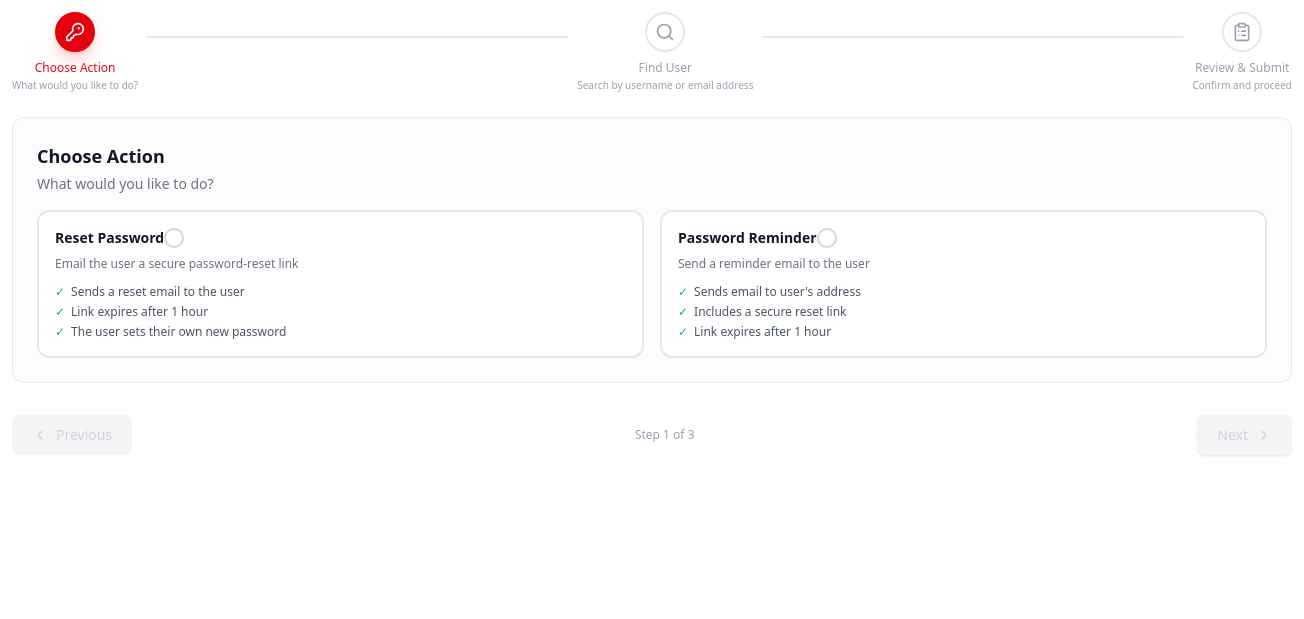
Test: PasswordForm Component › Step 3 — Password Reminder Flow › shows the reset-email info banner for the reminder flow
This screenshot has width=1304, height=619.
Click the text "Password Reminder" at (747, 238), box [678,228,817,248]
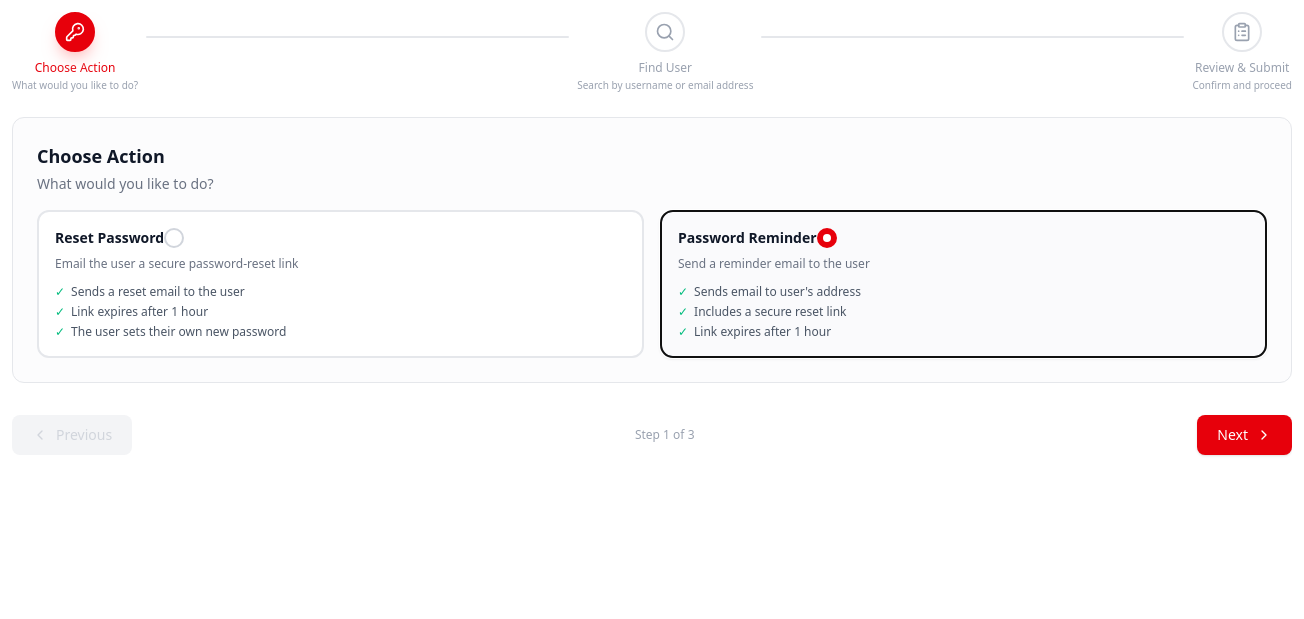
Click the button "Next" at (1245, 435), box [1197,415,1292,455]
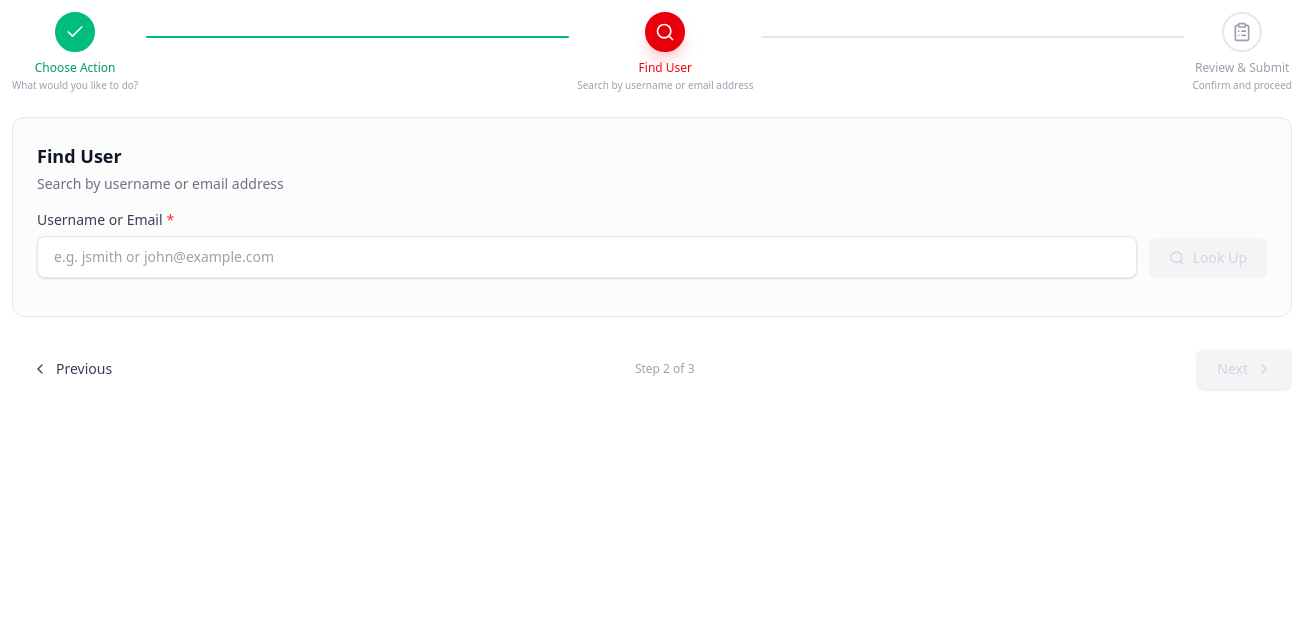
Type "carol" into the field with placeholder "e.g. jsmith or john@example.com" at (587, 257), box [37,236,1137,278]
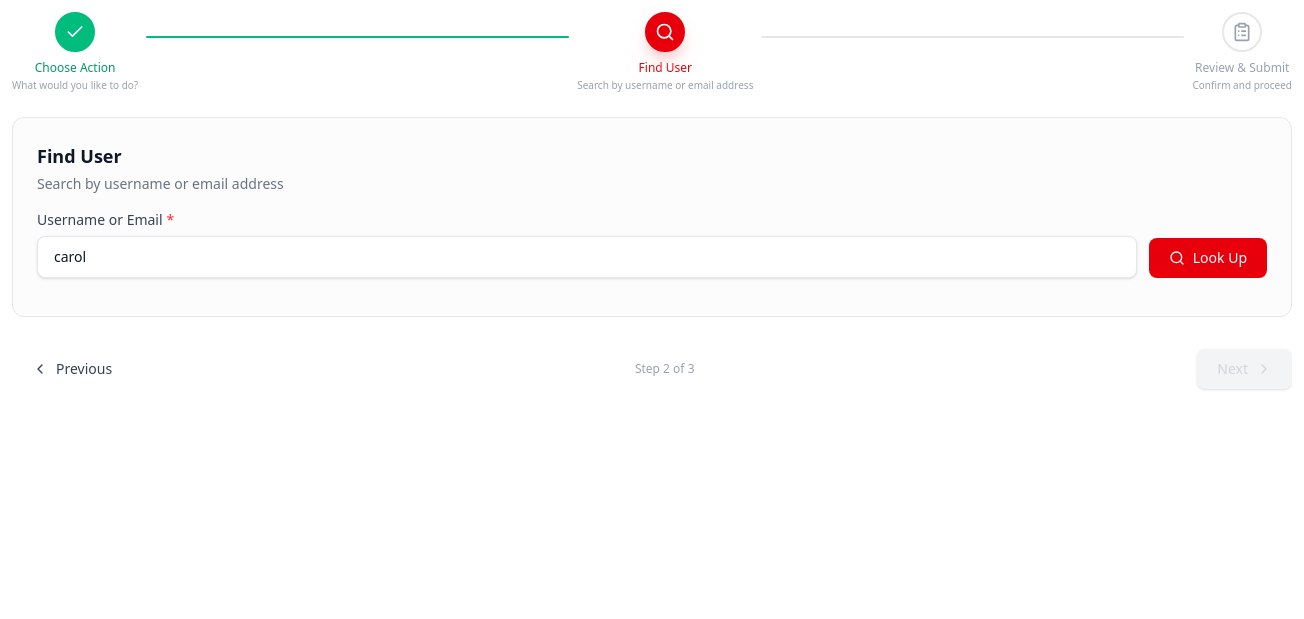
Click the button "Look Up" at (1208, 258), box [1149,238,1267,278]
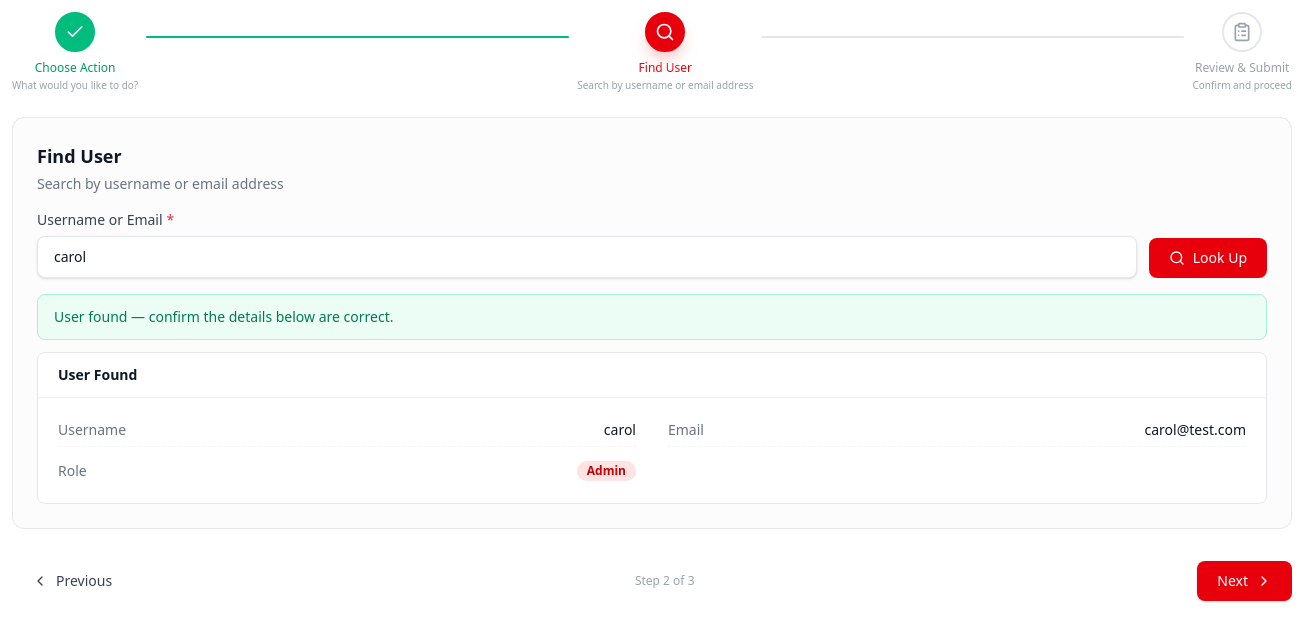
Expected: the text "carol" is shown, [604,420,636,440]
Click the button "Next" at (1245, 581), box [1197,561,1292,601]
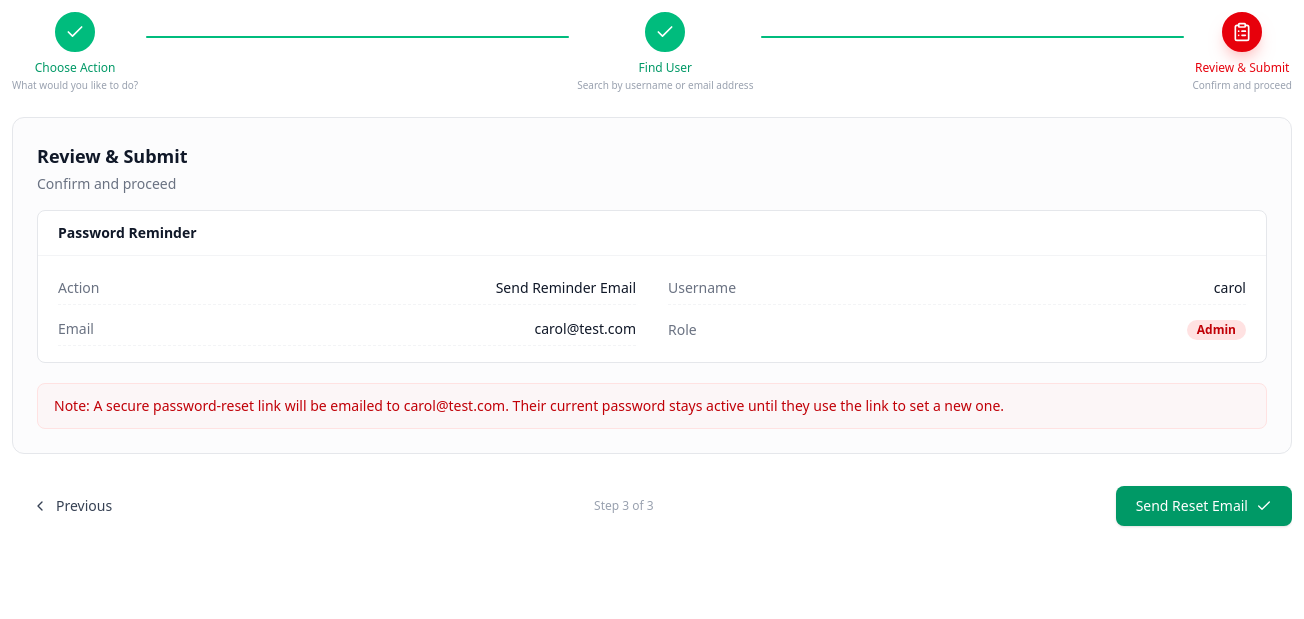
Expected: the text "password-reset link will be emailed" is shown, [90,396,400,415]
